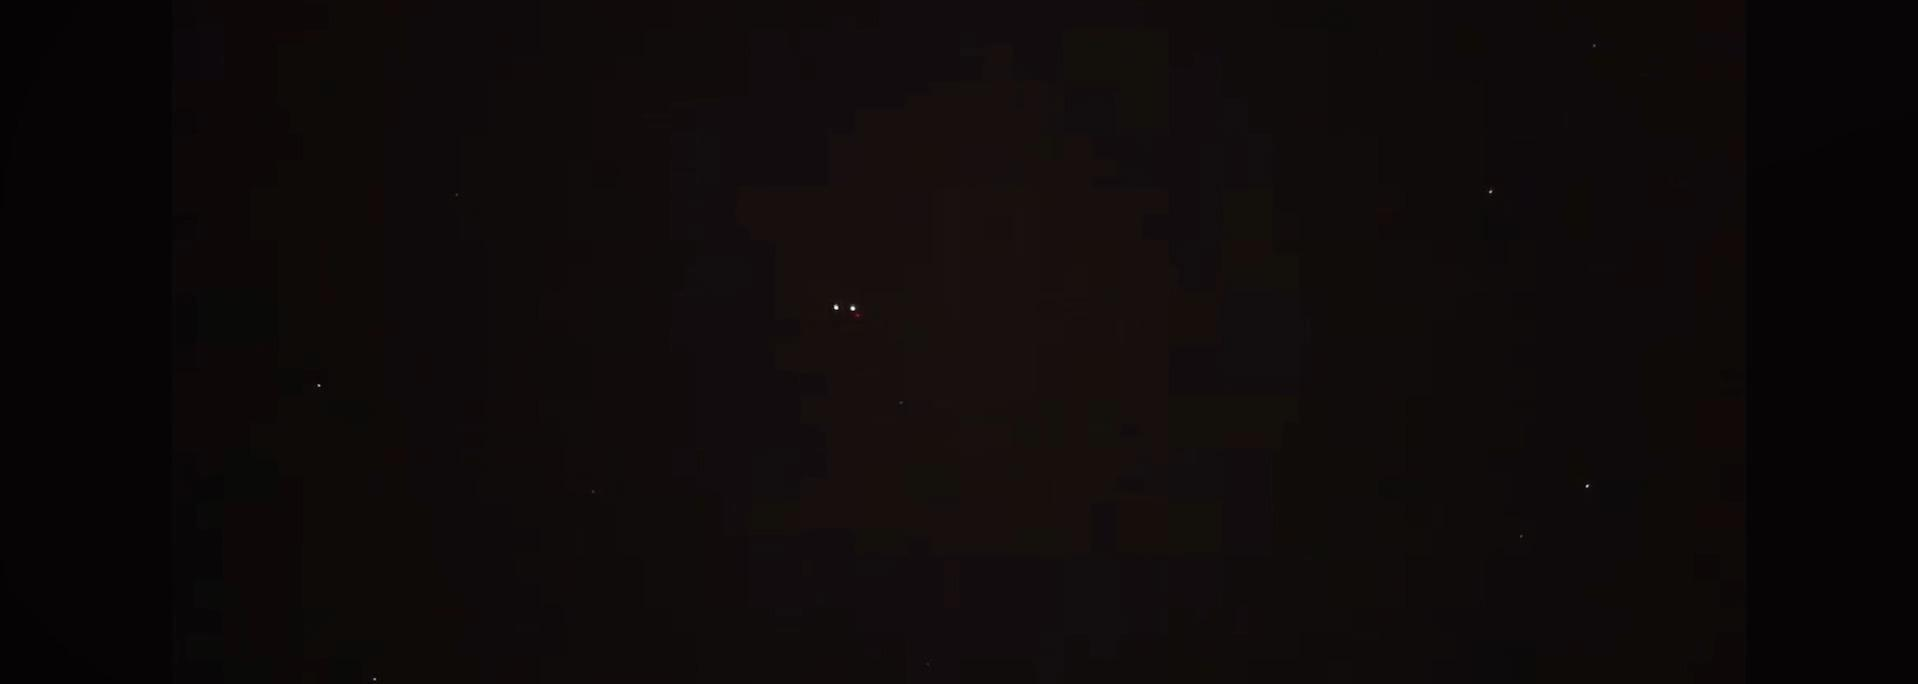Plane: (802, 292, 894, 328)
